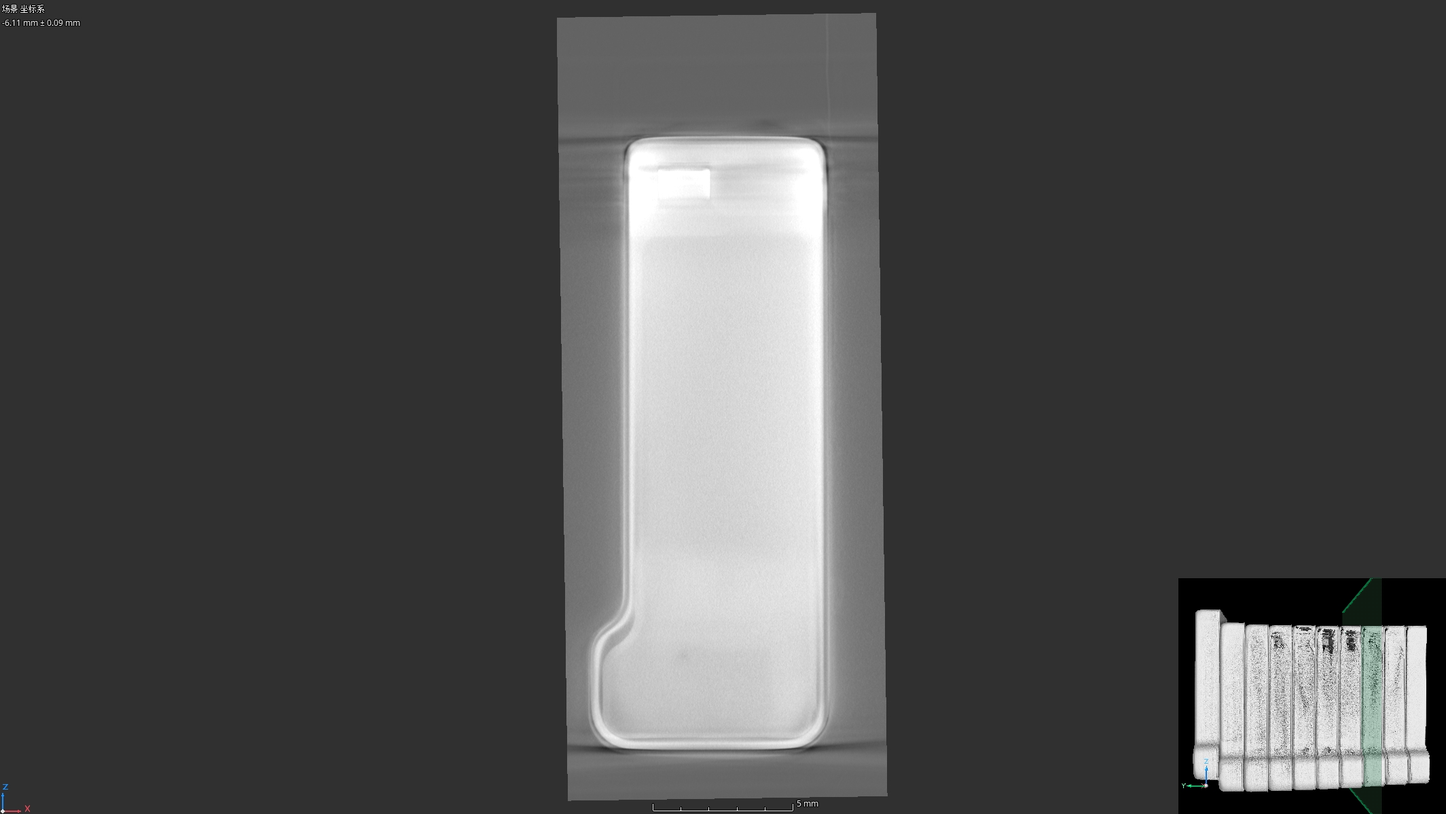dark: (675, 648, 694, 664)
